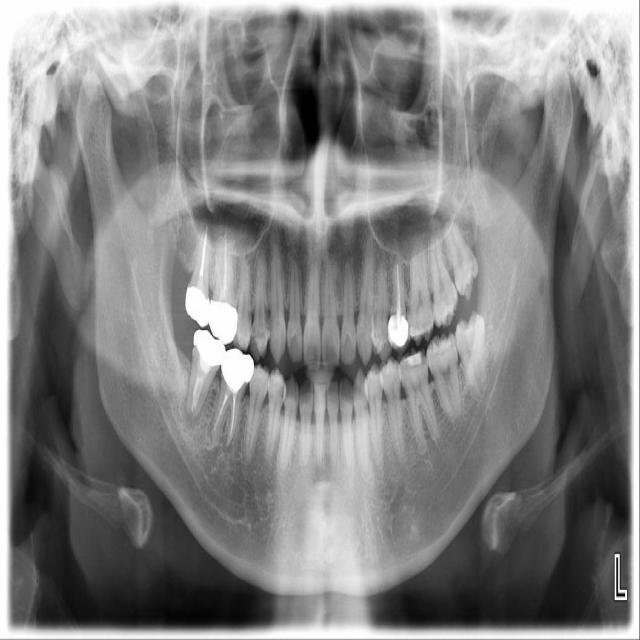52: (180, 324, 235, 378), (211, 343, 262, 400), (205, 297, 241, 348), (395, 345, 434, 390), (184, 284, 211, 329), (388, 311, 409, 350)
73: (207, 383, 245, 450), (181, 359, 218, 425), (210, 226, 236, 306), (188, 219, 209, 297), (388, 248, 405, 316), (585, 576, 593, 590)
BioHorizons Implant: (426, 217, 460, 328)
BioLife Implant: (442, 217, 485, 306)
Biomet 3i Implant: (452, 308, 495, 402)
Blue Sky Bio Implant: (421, 329, 474, 425)
Caries: (183, 218, 211, 328)
Implant: (182, 326, 228, 428)
